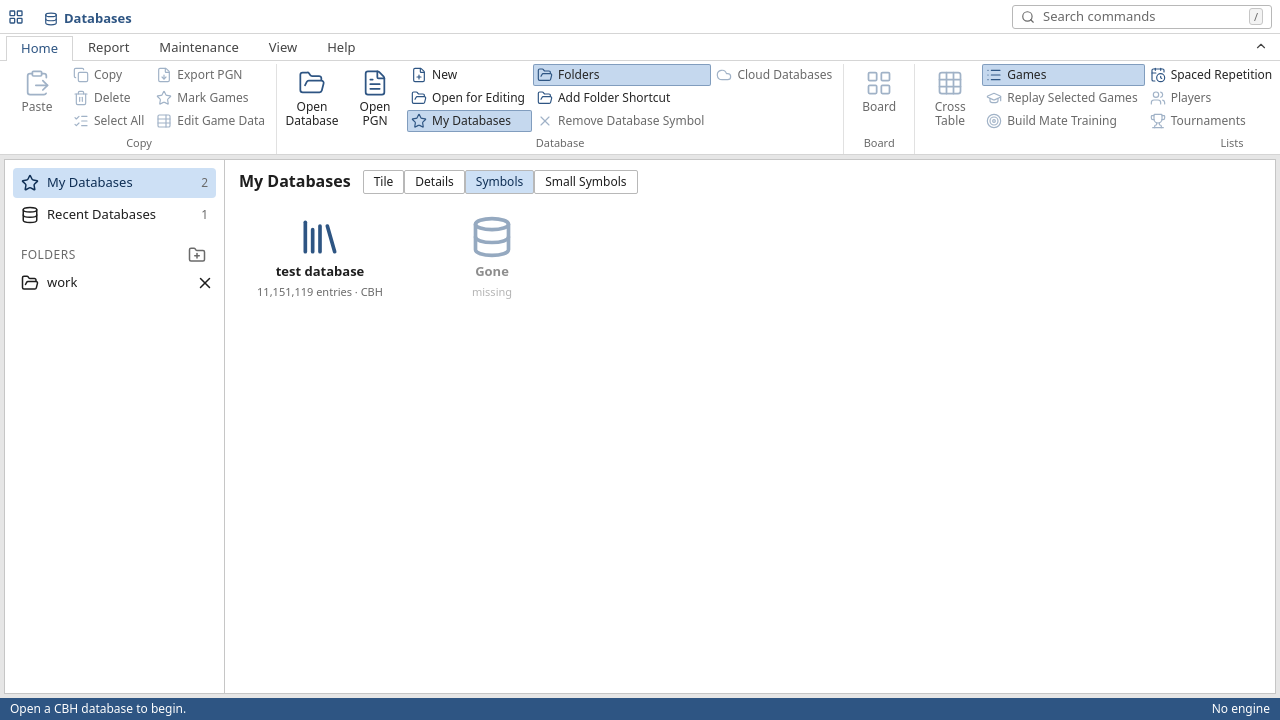
recovery from an unopened damaged family › ignores stale progress, stops its own job and never offers a cancelled output
The image size is (1280, 720).
Click the tab "Maintenance". click: click(199, 48)
box: [144,35,254,60]
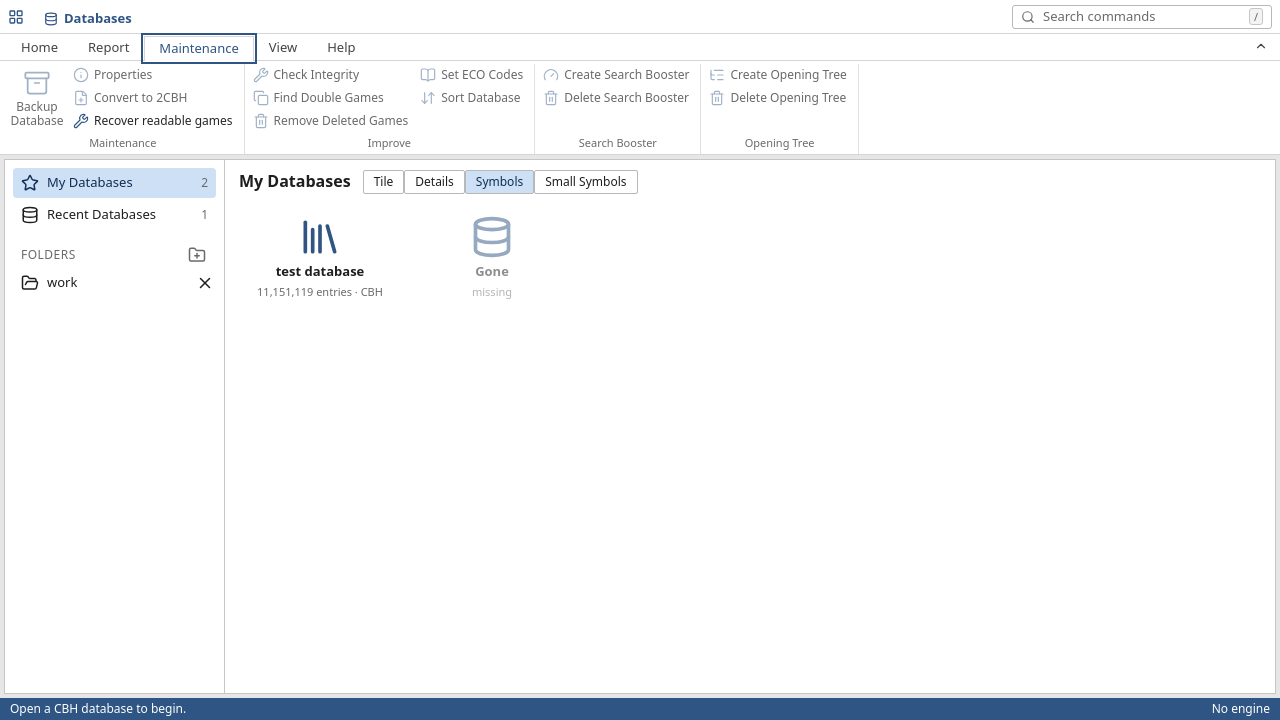
Click the button "Recover readable games". click: click(154, 121)
box: [69,110,240,132]
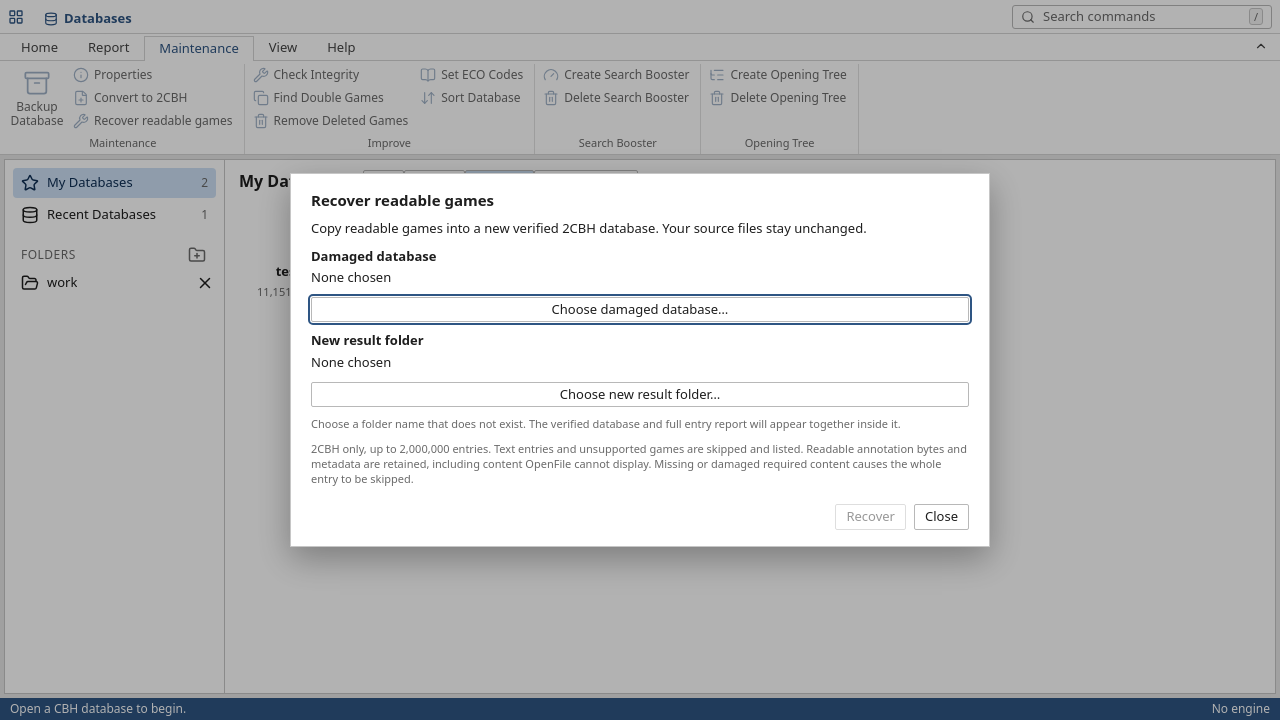
Click the button "Choose damaged database…". click: click(640, 310)
box: [311,297,969,322]
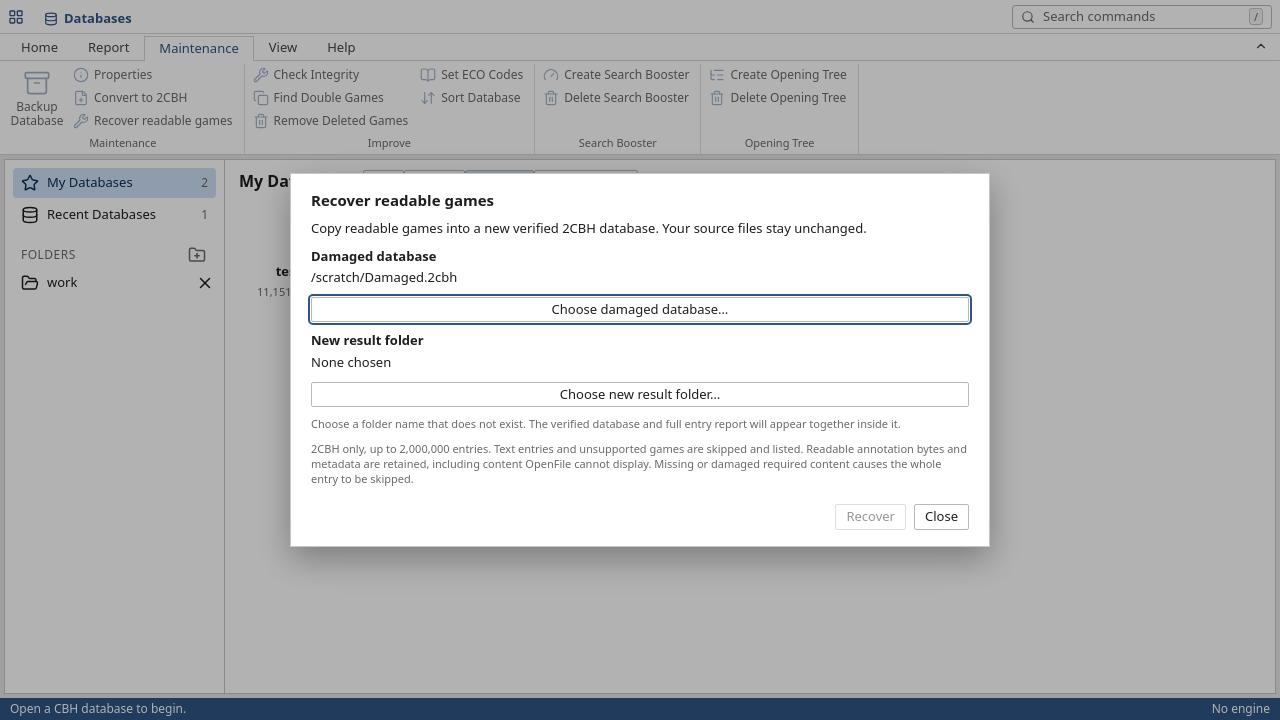
Click the button "Choose new result folder…". click: click(640, 394)
box: [311,382,969,407]
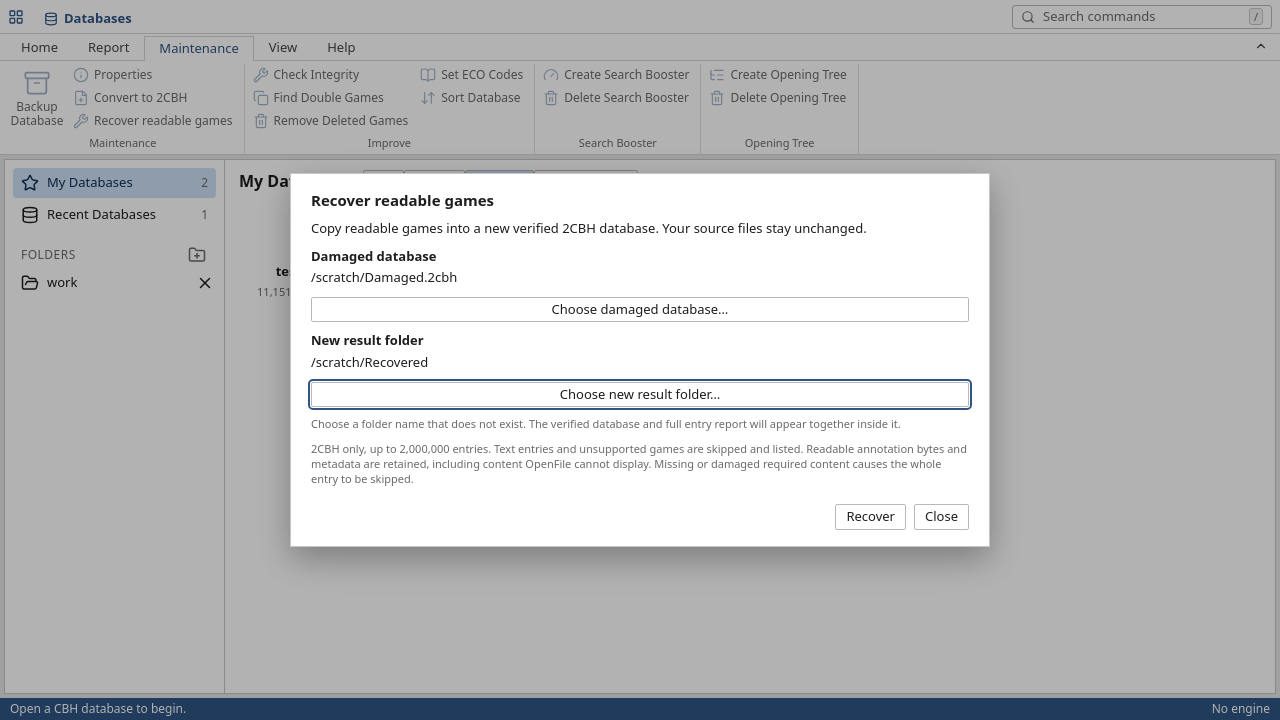
Click the button "Recover". click: click(871, 517)
box: [835,504,906,530]
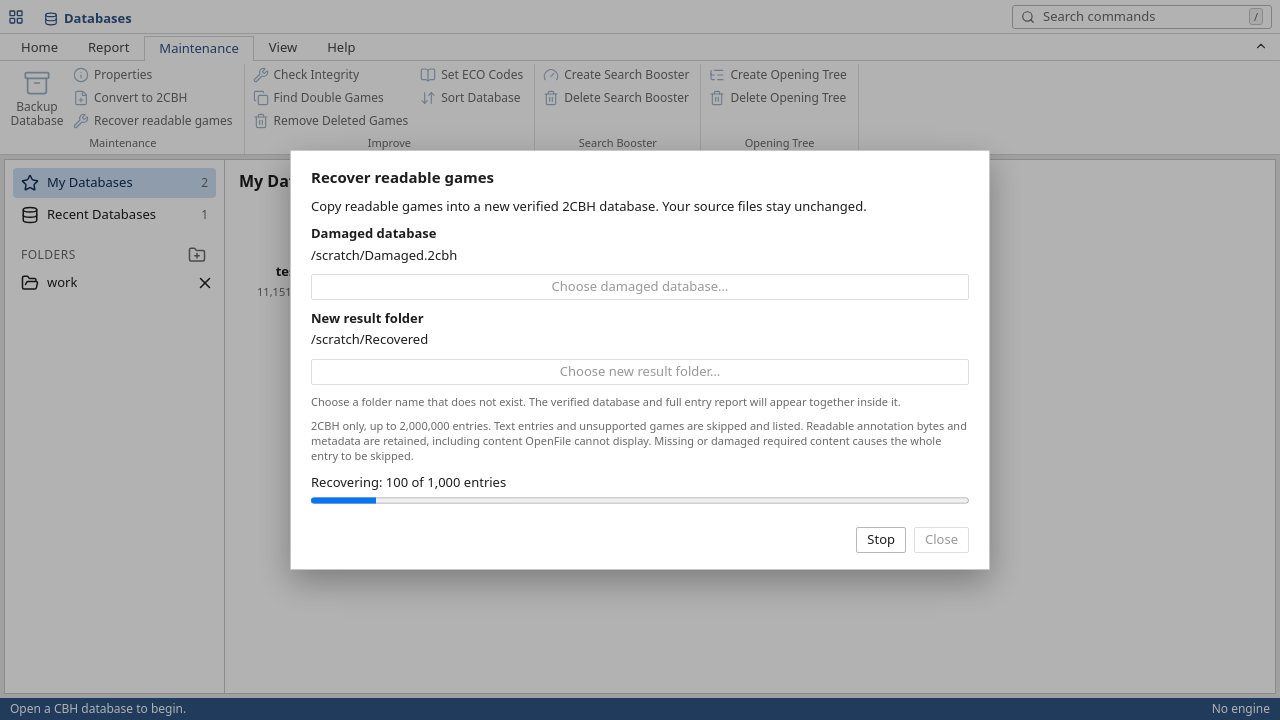
Expected: the dialog "Recover readable games" does not show "999", [290,150,990,570]
Expected: the button "Stop" is enabled
Expected: the text "Recovering: 100 of 1,000 entries" is shown, [311,473,506,491]
Click the button "Stop". click: click(881, 540)
box: [856,527,906,552]
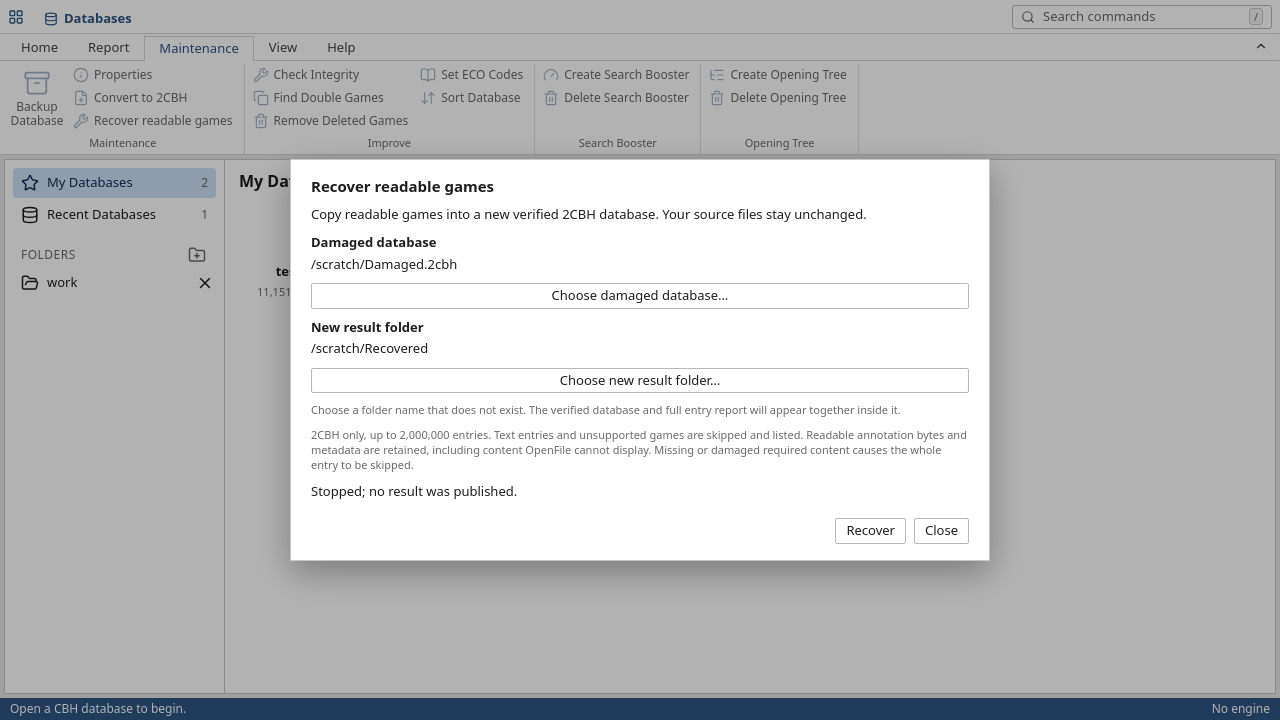
Expected: the text "Stopped; no result was published." is shown, [311,482,517,500]
